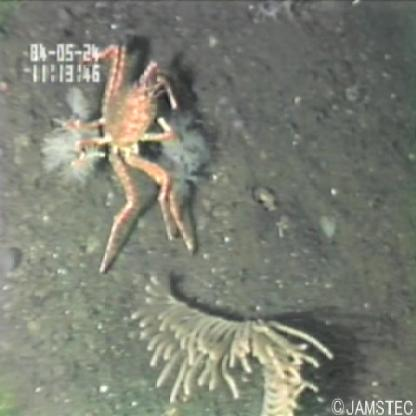Bio: (35, 37, 203, 276), (128, 268, 336, 416)
